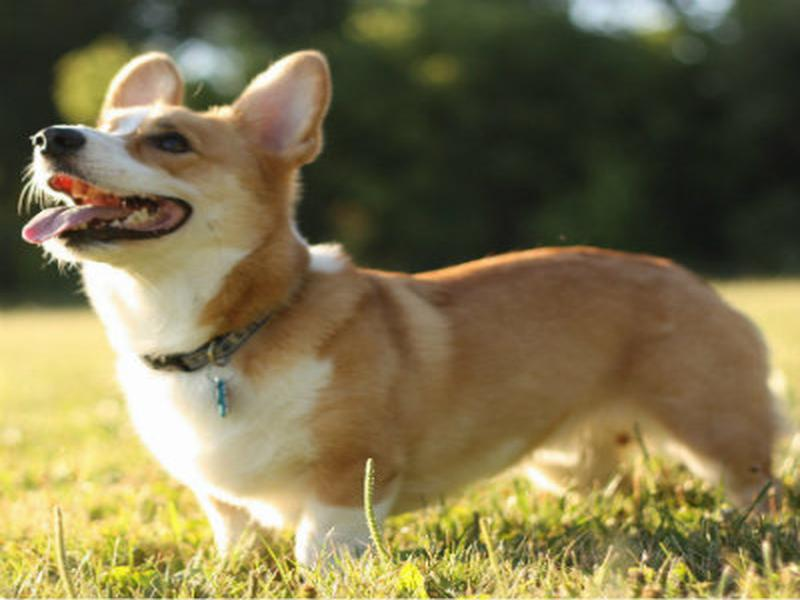corgi: (22, 49, 335, 264)
